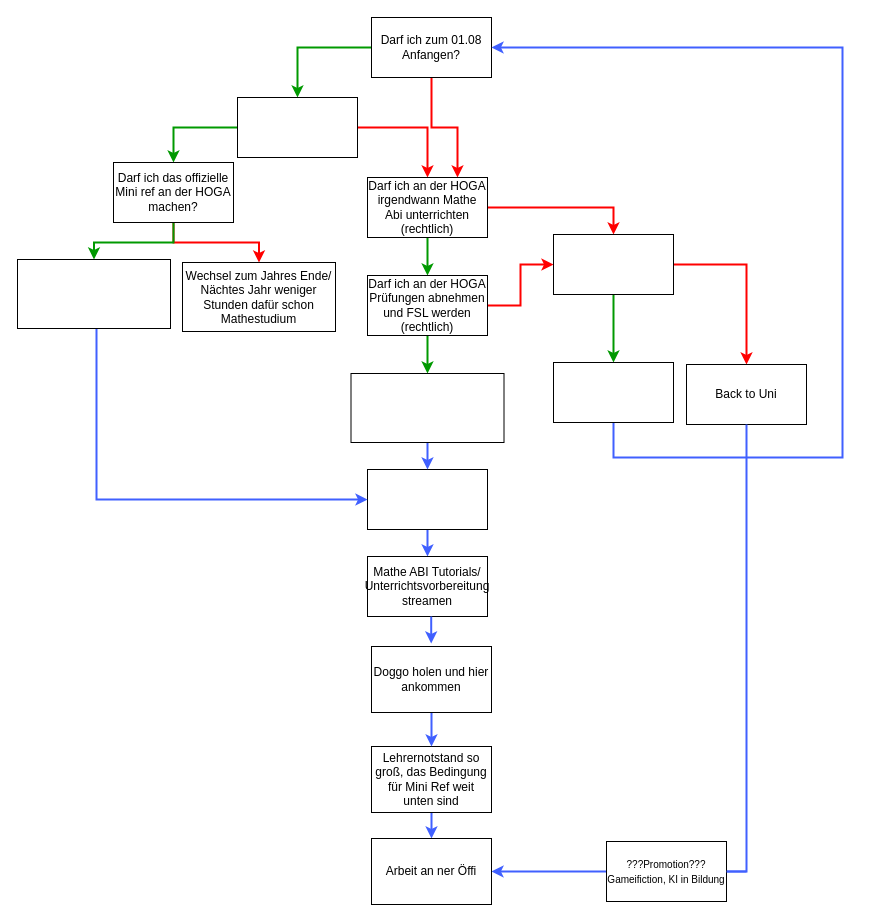
This 869x922 diagram has some shape labels left out. The shapes that lost their labels are listed below. From the top down, each one's centre as x and y in pixels, then its label:
At [297,127]: "Werden annehmbar viele Mathe CP anerkannt (>50%)".
At [613,264]: "Funktioniert andes Bundesland?".
At [93,293]: "Durchziehen, dann nachstudieren und irgendwann weiter".
At [427,407]: "Erstmal cool, später vlt mal etwas nebenbei studieren, dafür viel für Alle geben".
At [613,392]: "Gleiches Verfahren".
At [427,499]: "Unterrichtsmaterialien Webseite veröffentlichen".
